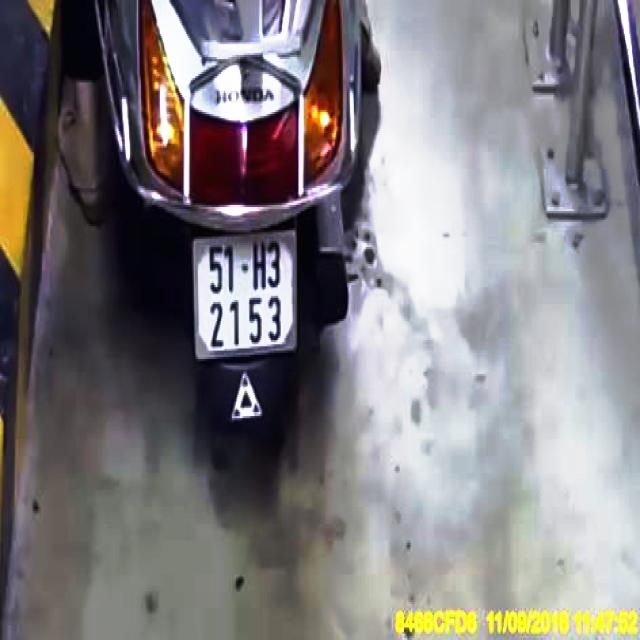license_plate: (196, 232, 297, 363)
